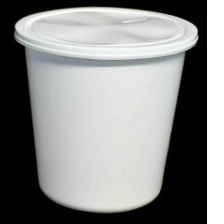plastic_box: (8, 1, 203, 218)
